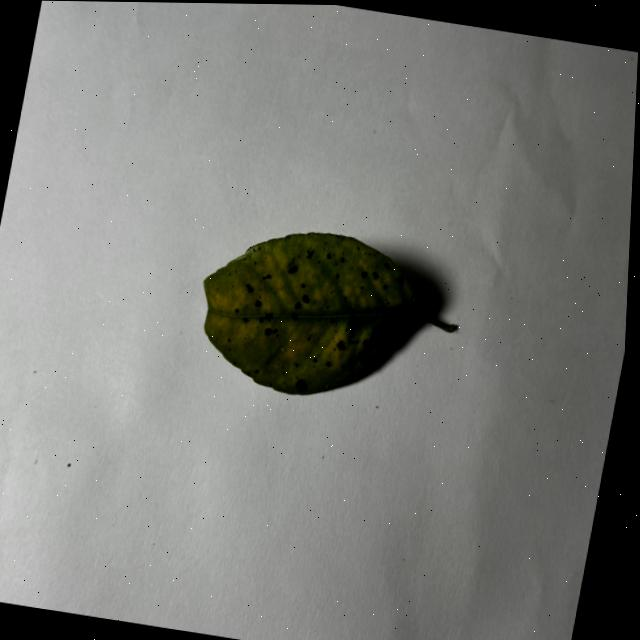sooty_mold: (204, 232, 457, 394)
